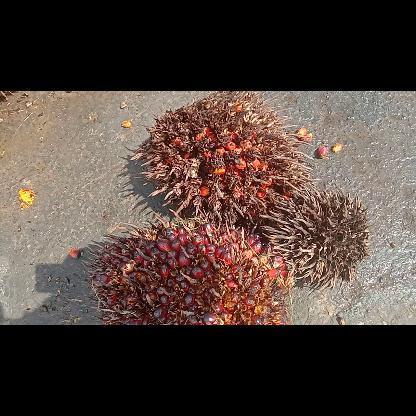Janjang kosong: (260, 183, 372, 287)
TBS masak: (82, 208, 294, 324)
Terlalu masak: (130, 90, 314, 224)
